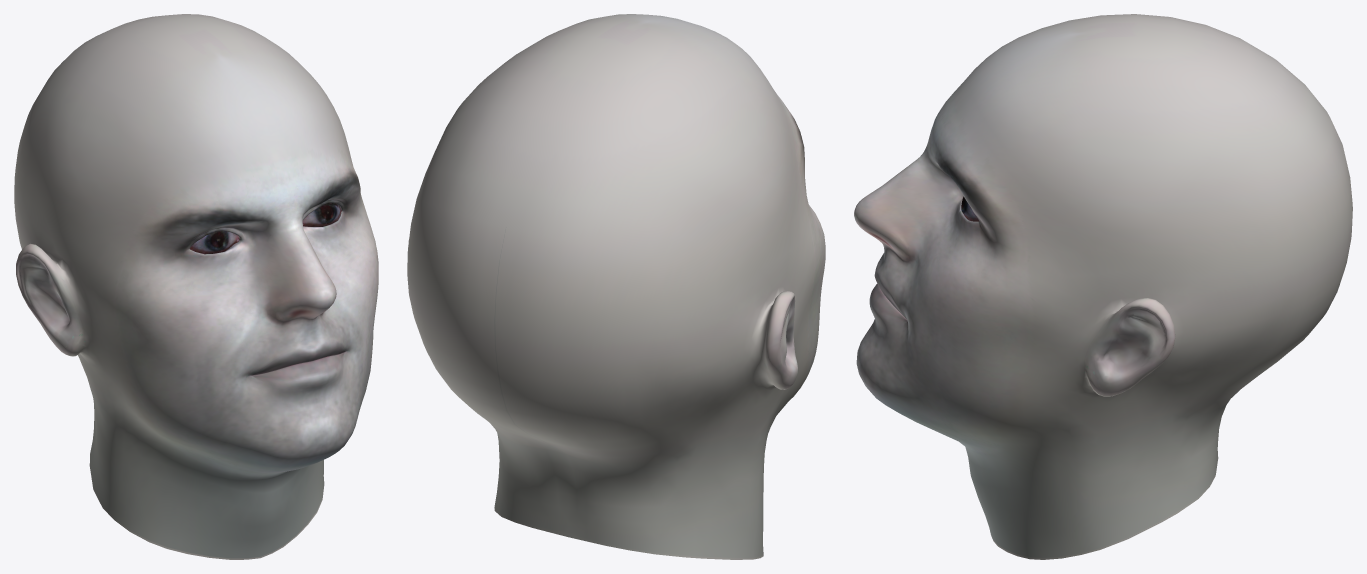
The picture shows the model from 3 angles, left to right: view 1: azimuth 30°, elevation 25°; view 2: azimuth 150°, elevation 25°; view 3: azimuth 270°, elevation 25°; orthographic projection. The views are drawn at different scales.
Parts seen in each view (by area): view 1: skin_hi, eyeR_hi, eyeL_hi; view 2: skin_hi; view 3: skin_hi.
Boxes of the visible parts, bbox=[...] form: skin_hi: bbox=[14, 14, 378, 559]; eyeR_hi: bbox=[189, 231, 239, 254]; eyeL_hi: bbox=[302, 203, 341, 226]; skin_hi: bbox=[407, 14, 825, 559]; skin_hi: bbox=[854, 14, 1352, 559].
Bounding box in the file's own units: 196 × 275 × 246.
